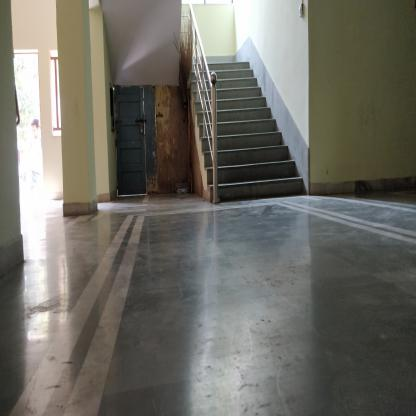stairs: (222, 60, 252, 206)
